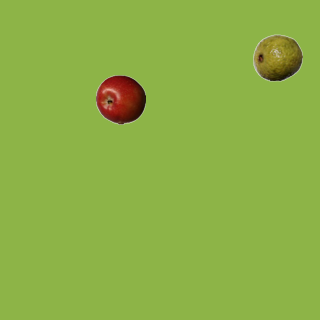Apple Braeburn: (95, 74, 145, 124)
Guava: (252, 32, 302, 82)
